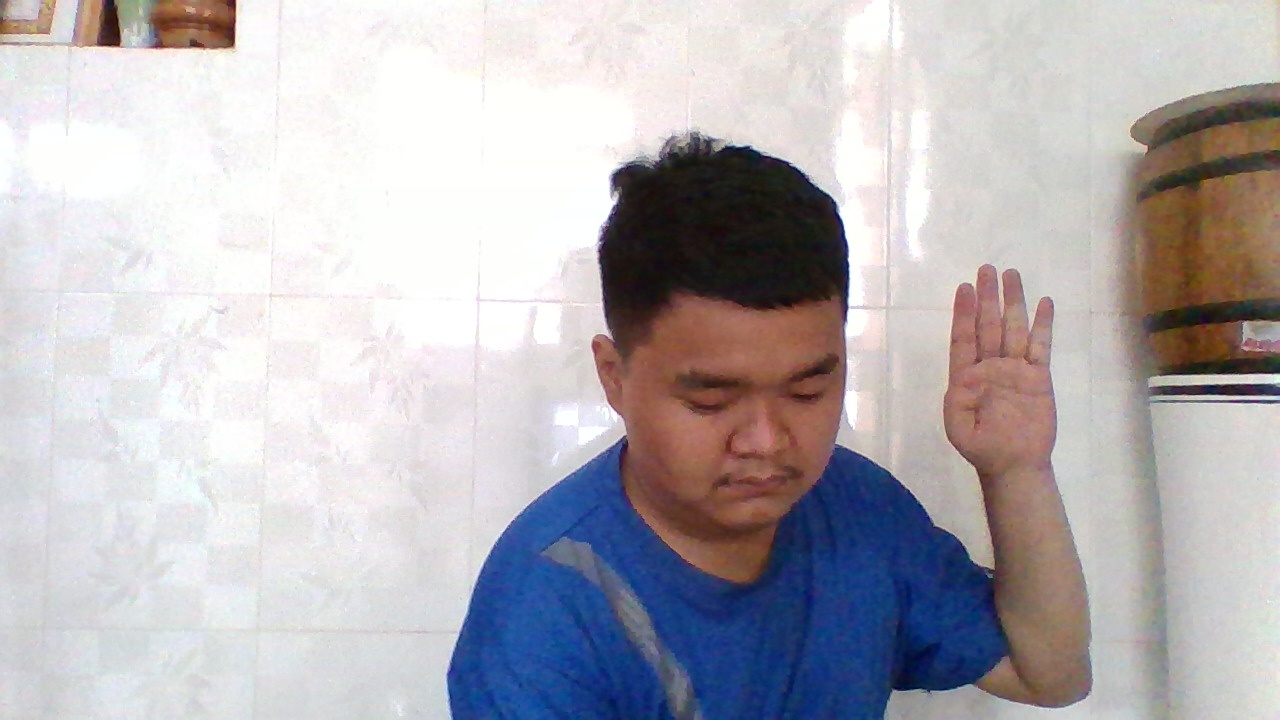B: (938, 254, 1064, 484)
